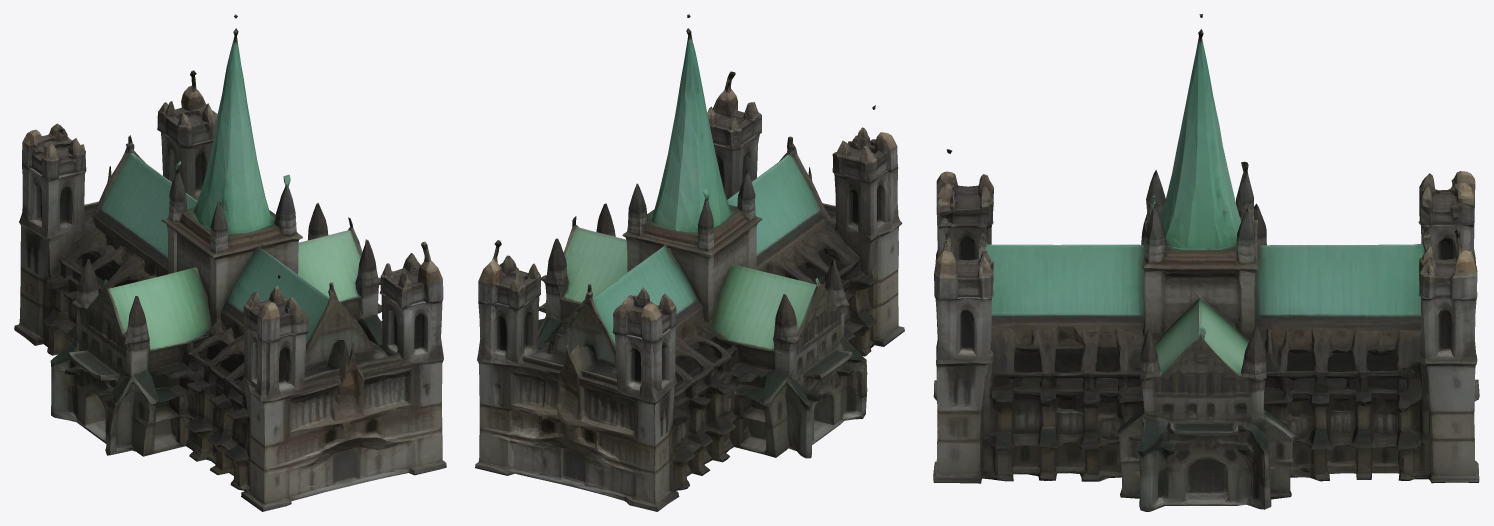
The model's file is nidaros.glb.
3 renders of one model, left to right at view 1: azimuth 30°, elevation 25°; view 2: azimuth 150°, elevation 25°; view 3: azimuth 270°, elevation 25°, orthographic. The views are drawn at different scales.
Visible parts, largest first — view 1: geometry_0; view 2: geometry_0; view 3: geometry_0.
Boxes of the visible parts, left/top/right/bottom form: geometry_0: left=14, top=14, right=446, bottom=511; geometry_0: left=475, top=14, right=904, bottom=511; geometry_0: left=933, top=14, right=1479, bottom=511.
Size of the model in its own units: 0.6792 by 0.8603 by 0.9999.
Materials: 1 (1 with a texture image).
